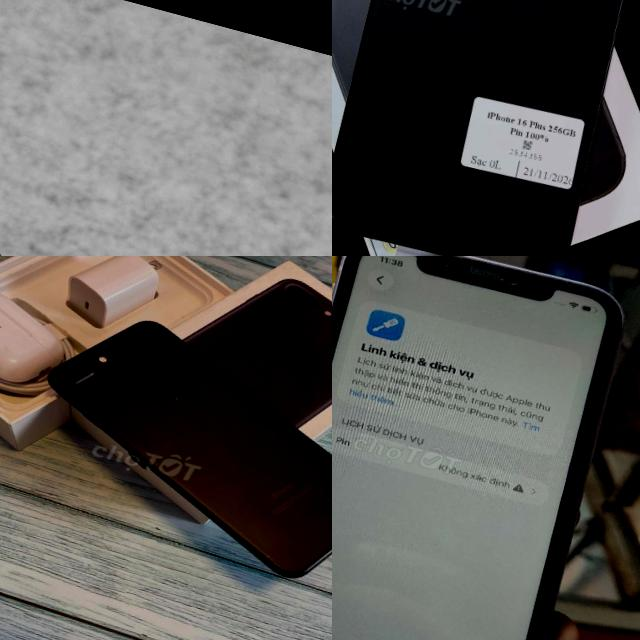scratch: (260, 548, 274, 562)
